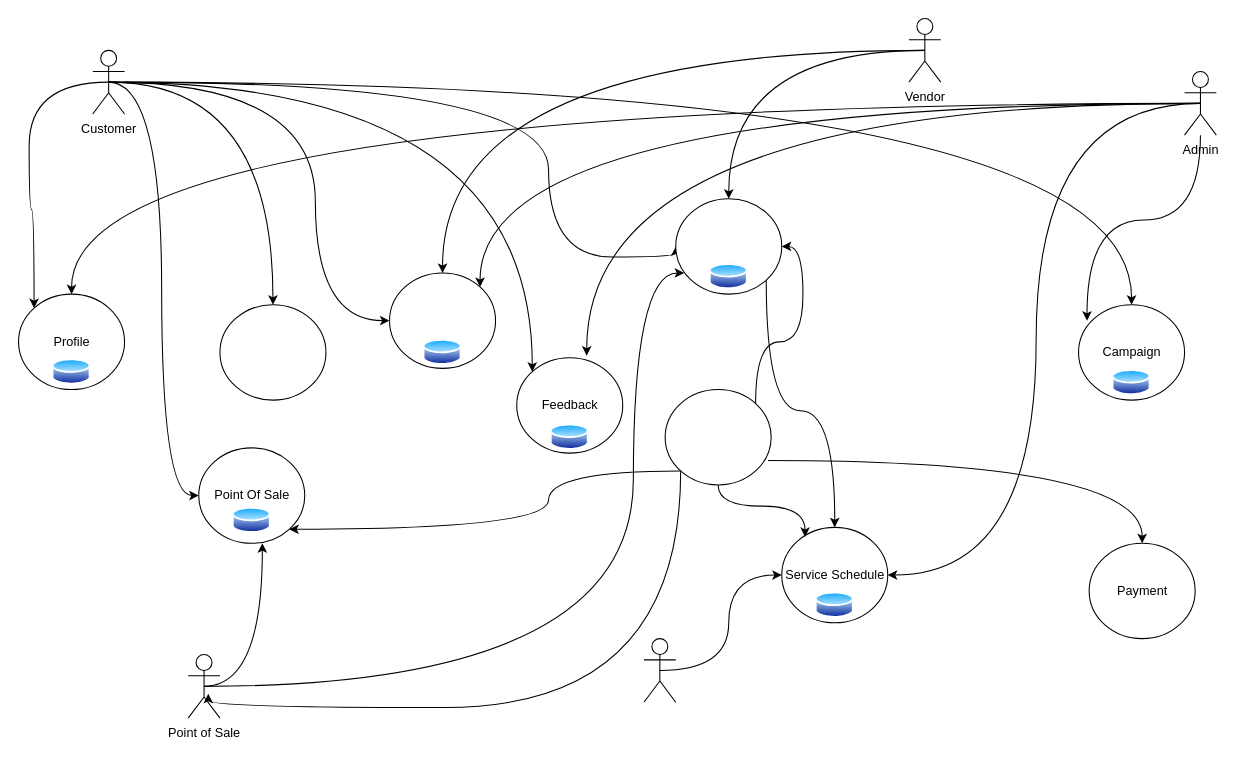
This 1237x759 diagram has some shape labels left out. Each missing label, with the box of its shape:
Location: (219, 304, 326, 400)
Menu: (388, 272, 496, 368)
Orders: (675, 198, 782, 294)
Service Agent: (643, 638, 676, 702)
System: (664, 388, 771, 485)
